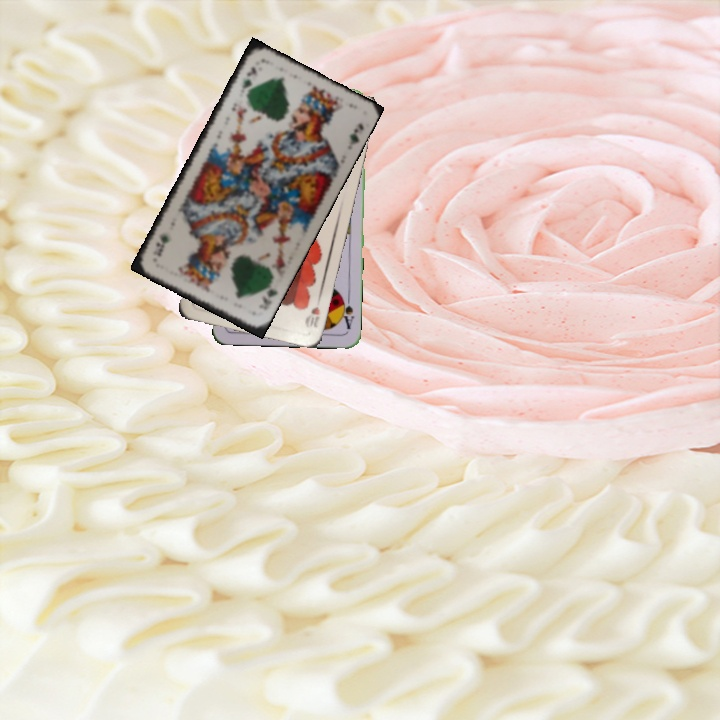GK: (255, 278, 280, 313), (236, 62, 259, 95)
H10: (301, 293, 323, 330)
SA: (337, 292, 357, 331)
